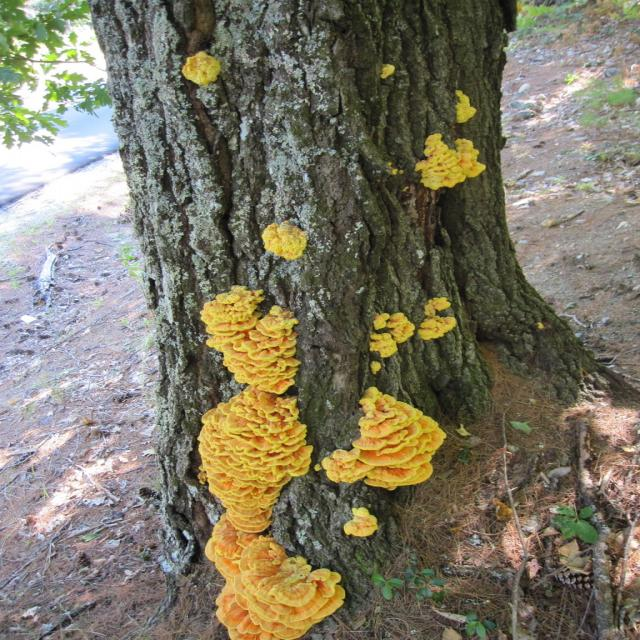Mushroom: (192, 284, 349, 640), (318, 390, 446, 488), (369, 294, 457, 372), (414, 133, 487, 190), (264, 220, 311, 258), (181, 53, 223, 87), (346, 507, 378, 538), (453, 88, 480, 122), (384, 62, 395, 79)
